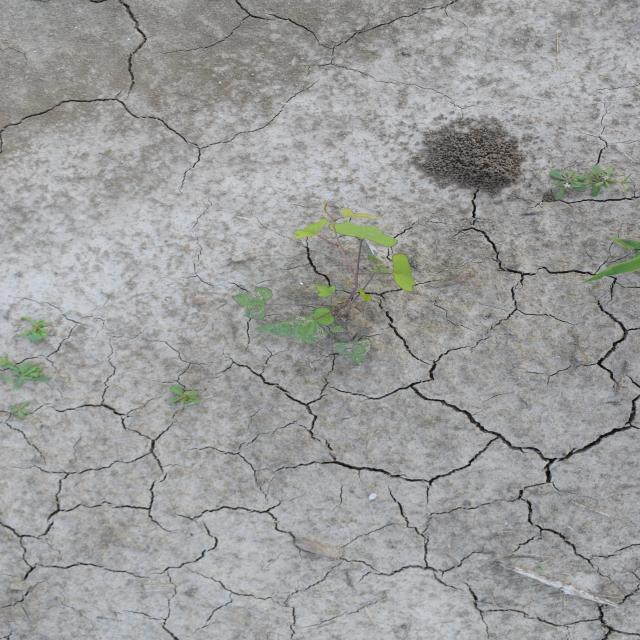Carpetweed: (548, 163, 636, 200), (1, 353, 54, 388), (19, 312, 55, 343), (167, 383, 203, 407), (4, 398, 35, 421)
MorningGlory: (229, 203, 421, 366)
